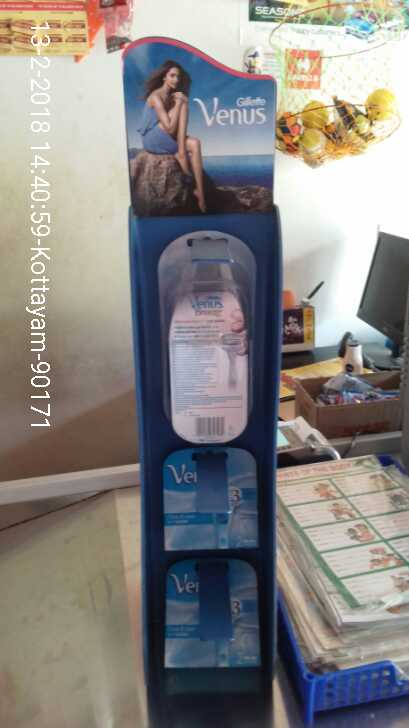venus: (163, 553, 264, 673), (162, 441, 265, 552)
